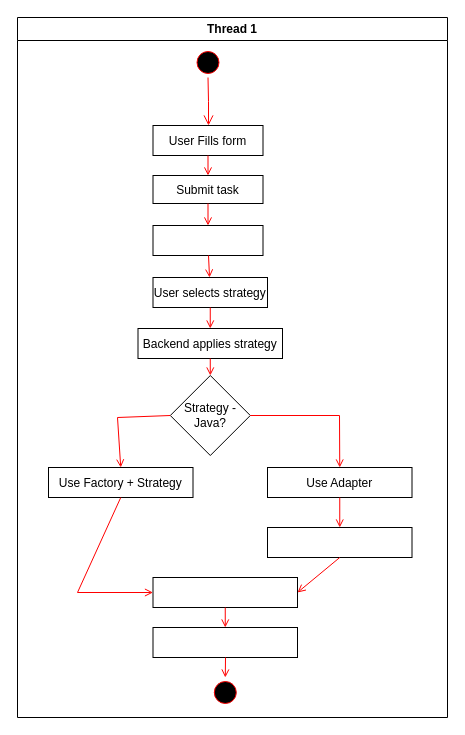
Some shapes in this 465 by 735 pixel diagram are drawn without their labels. The centre of each missing label's shape, as x and y in pixels:
Backend saves task: [207,240]
Display on Screen: [225,642]
Return Schedule: [225,592]
Use Python API: [339,542]
